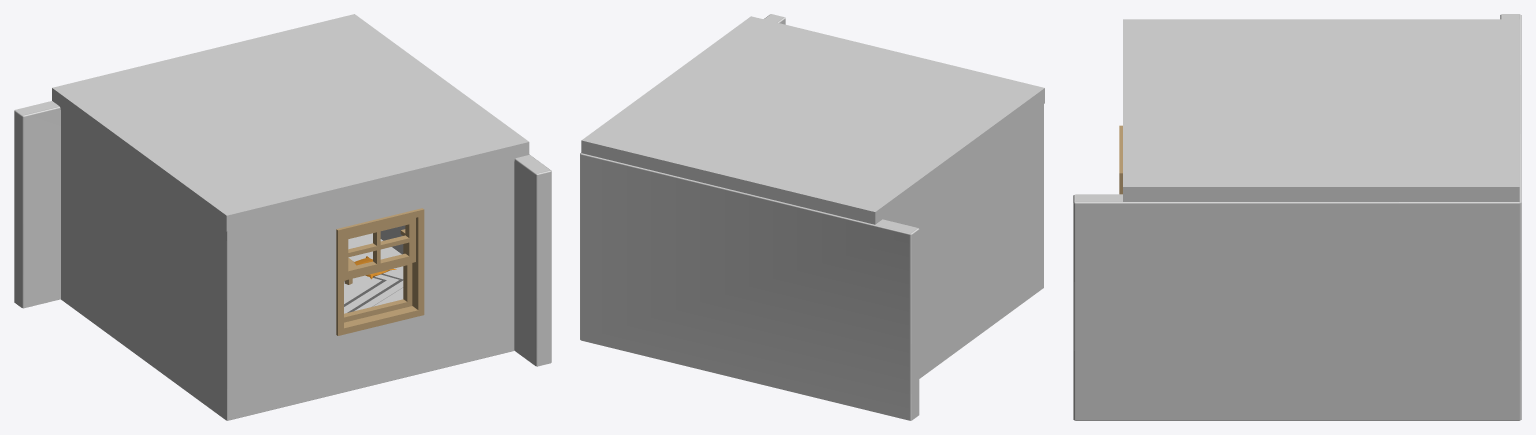
The model's file is anotherBedroom.glb.
3 renders of one model, left to right at view 1: azimuth 30°, elevation 25°; view 2: azimuth 150°, elevation 25°; view 3: azimuth 270°, elevation 25°, orthographic. The views are drawn at different scales.
Parts seen in each view (by area): view 1: Wall, Floor.001, Wall.001, Window, Carpet, Floor; view 2: Wall.001, Floor.001, Wall; view 3: Wall.001, Floor.001.
Boxes of the visible parts, box(x1,y1,x2,y2) form: Wall: box(61, 110, 514, 420); Floor.001: box(52, 14, 529, 231); Wall.001: box(14, 101, 551, 366); Window: box(336, 208, 424, 335); Carpet: box(344, 271, 403, 313); Floor: box(348, 233, 403, 306); Wall.001: box(580, 14, 919, 420); Floor.001: box(581, 16, 1044, 224); Wall: box(886, 104, 1043, 378); Wall.001: box(1073, 14, 1521, 420); Floor.001: box(1123, 19, 1519, 201).
Bounding box in the file's own units: 9.95 × 5.74 × 9.95.
